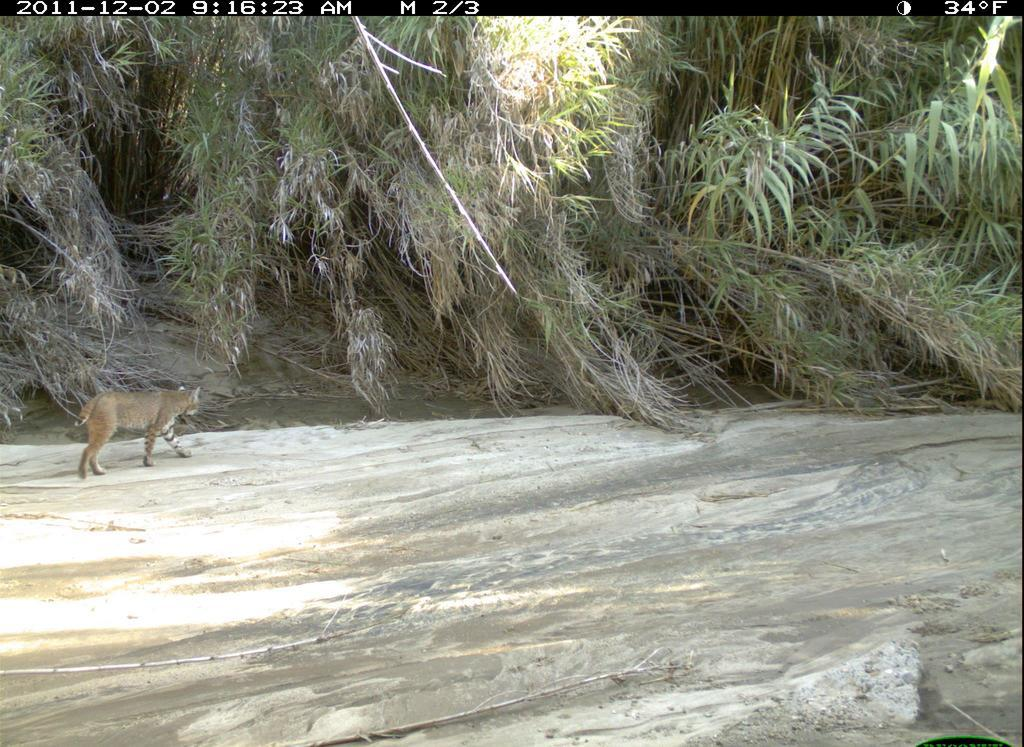bobcat: (68, 373, 213, 484)
